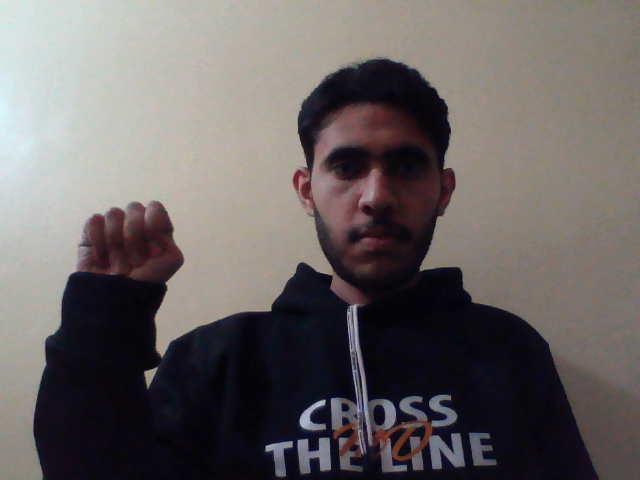M: (73, 193, 186, 297)
